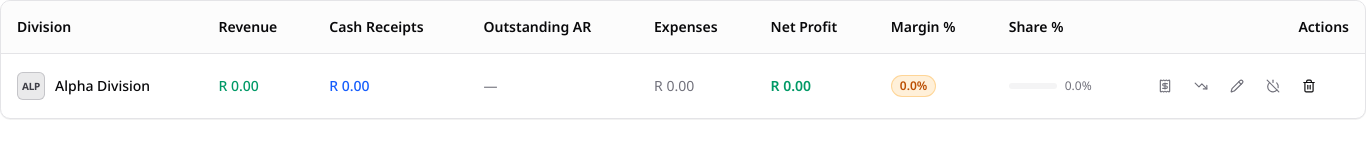
DivisionsTable › clicking Edit shows a text input pre-populated with the current division name - Validates: Requirements 3.1
Click the 1st button named "rename". click: point(1237, 86)
box: [1221,70,1253,102]
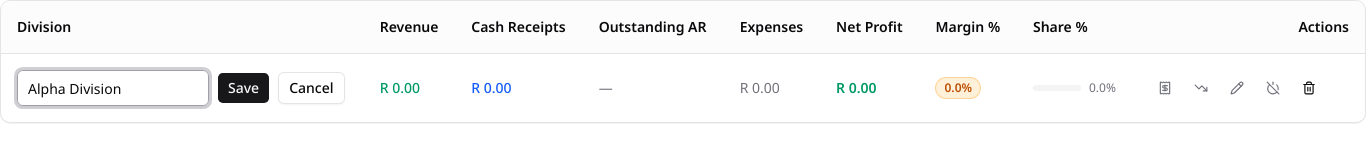
expect the field holds "Alpha Division": met, box [17,70,209,106]
